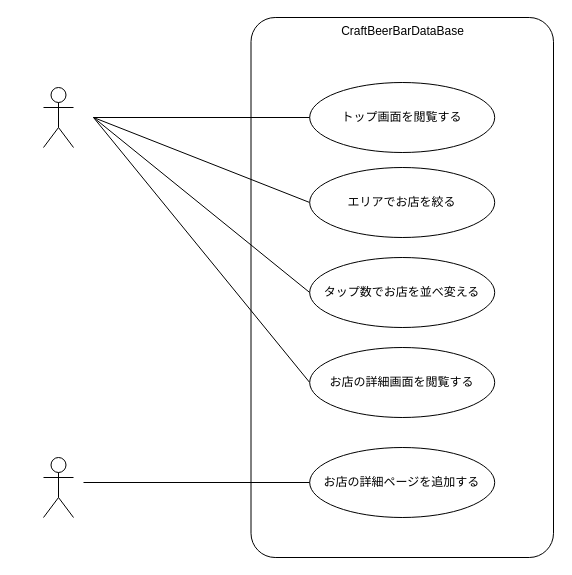
This 572x575 diagram has some shape labels left out. The centre of each missing label's shape, as x and y in pixels:
システム管理者: (x=58, y=487)
一般ユーザ: (x=58, y=117)
